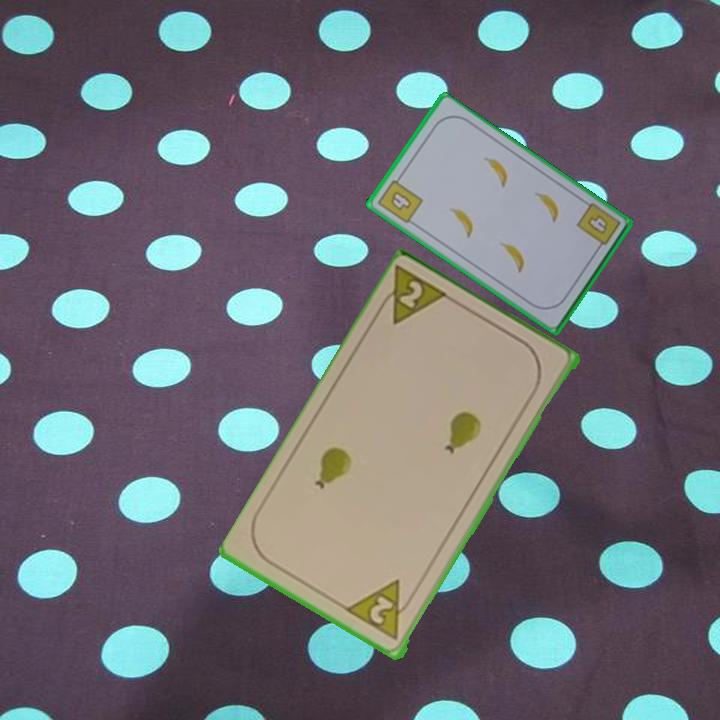2p: (372, 263, 454, 329), (344, 576, 418, 644)
4b: (374, 171, 426, 227), (573, 199, 623, 255)
